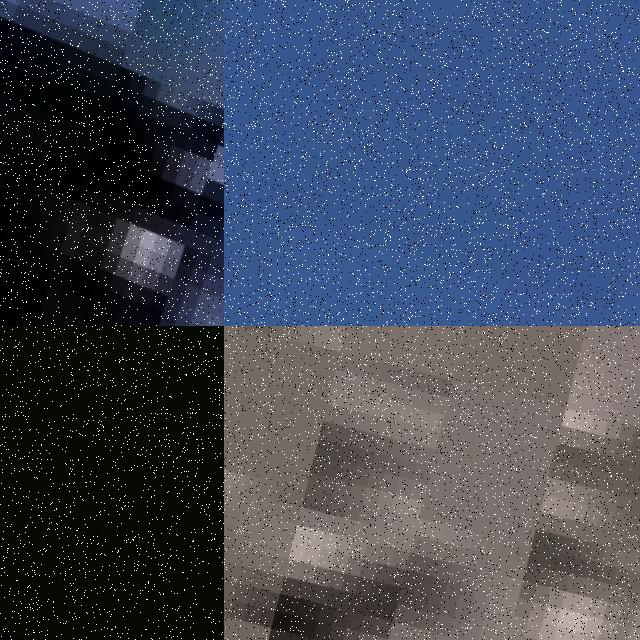drone: (0, 0, 224, 326), (0, 326, 224, 640)
